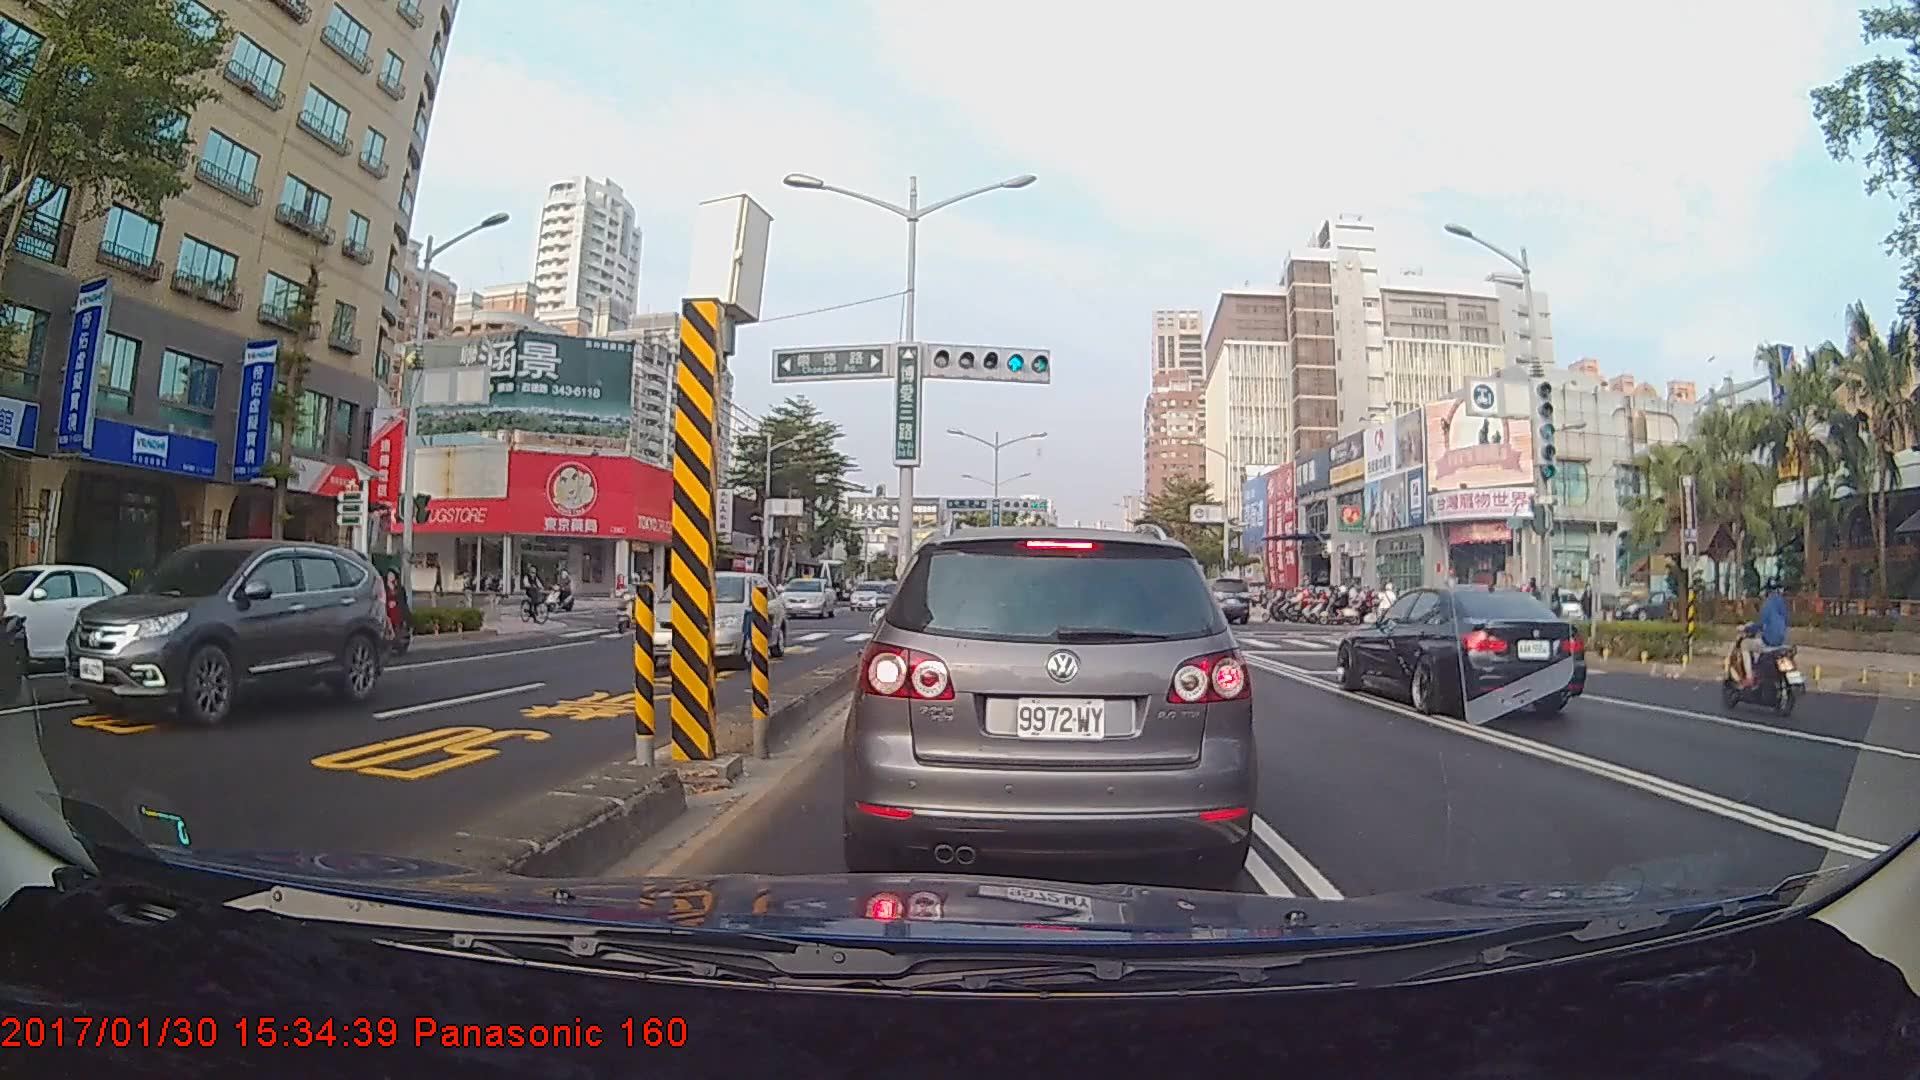rider: (1721, 572, 1812, 718), (349, 563, 419, 659), (518, 559, 561, 629), (1369, 582, 1404, 640), (545, 570, 579, 614)
vehicle: (855, 523, 1250, 882), (73, 539, 388, 717), (1333, 581, 1587, 713), (0, 561, 157, 671), (630, 568, 788, 669), (774, 576, 837, 619), (1201, 575, 1249, 626)
